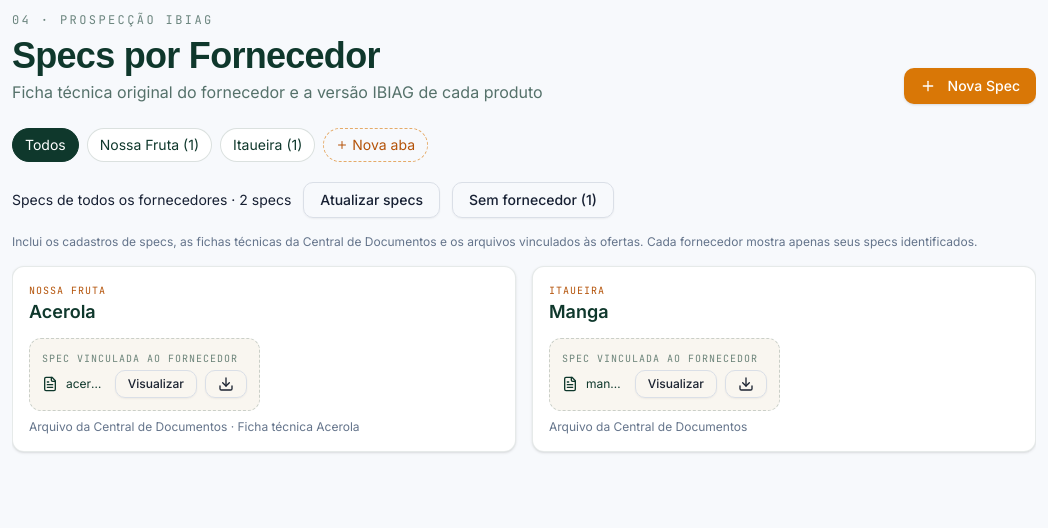
unassigned technical document can be linked to its supplier without uploading again
The image size is (1048, 528).
Click the button "Sem fornecedor (1)" at (533, 200), box x1=452 y1=182 x2=614 y2=218
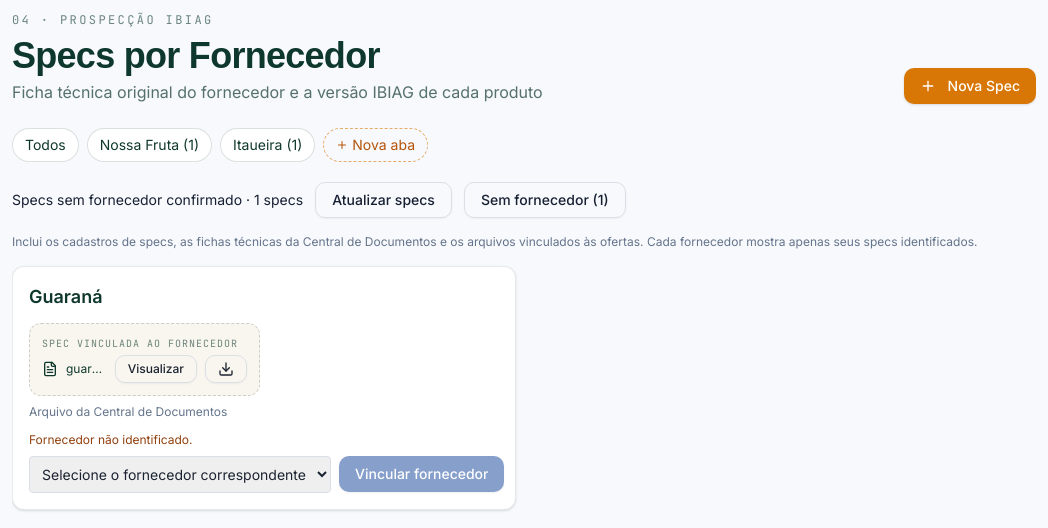
Select "Nossa Fruta" in the dropdown named "Fornecedor de Guaraná" at (180, 474), box x1=29 y1=456 x2=331 y2=493
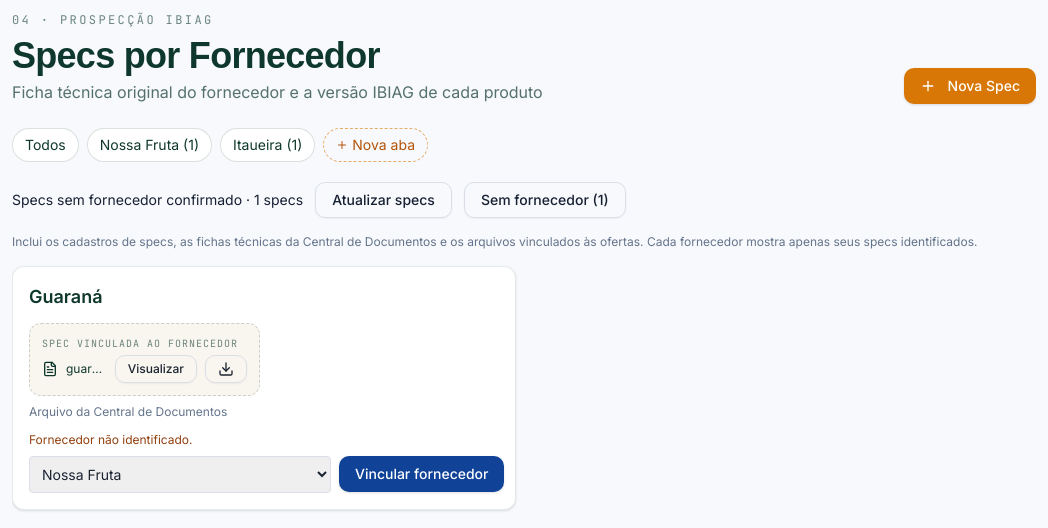
Click the button "Vincular fornecedor" at (422, 474), box x1=339 y1=456 x2=504 y2=492
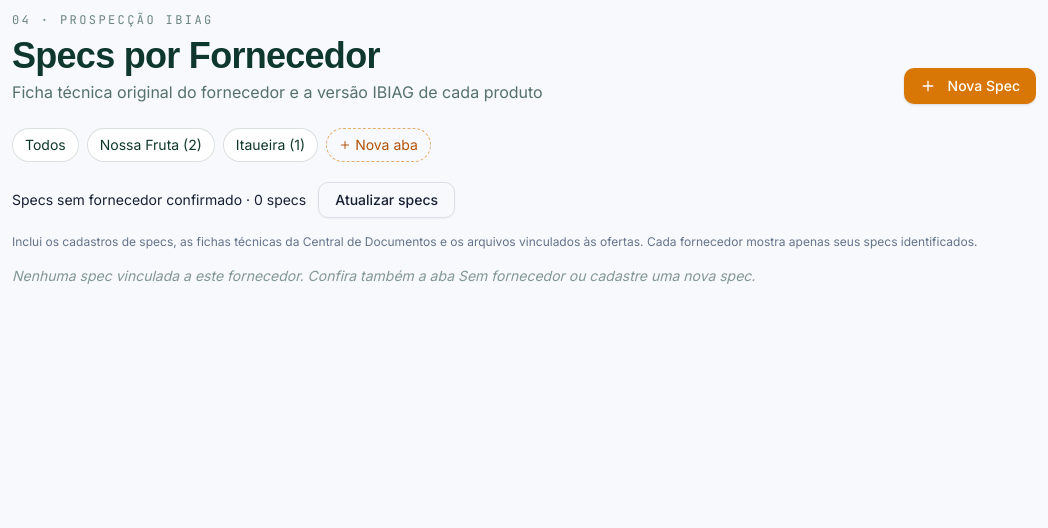
expect the button "Sem fornecedor (1)" is gone: met
Click the button with test id "supplier-tab-s1" at (151, 145), box x1=87 y1=128 x2=215 y2=162
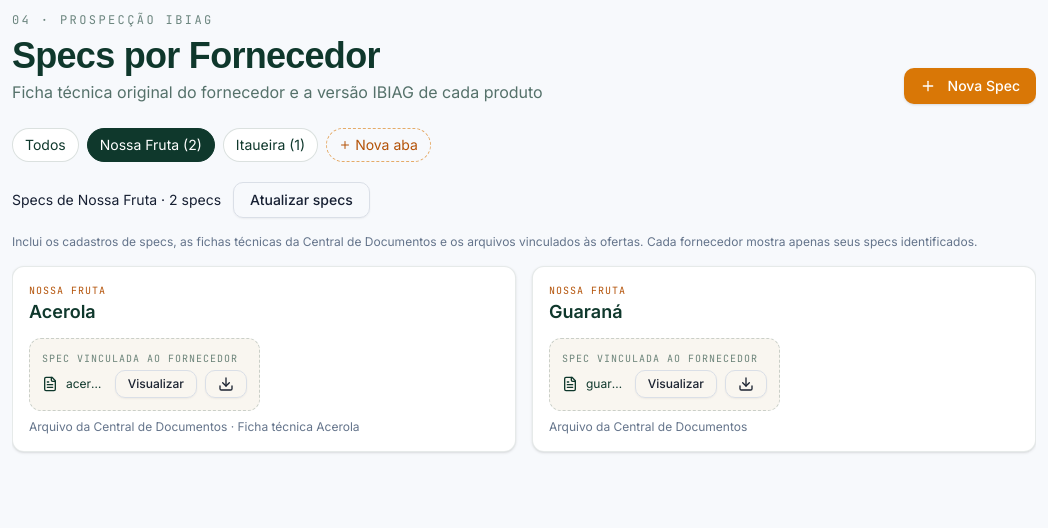
expect the button named "Baixar guarana.pdf" is shown: met, box x1=725 y1=370 x2=767 y2=398
